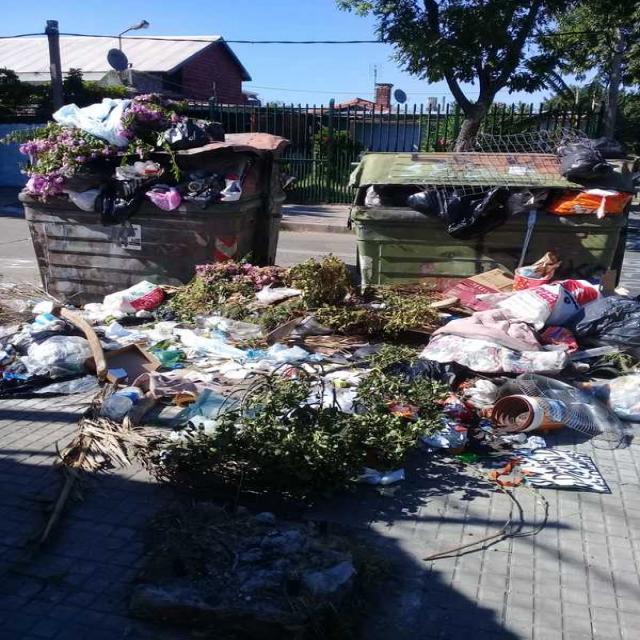garbage: (2, 259, 610, 426), (222, 268, 627, 427), (53, 394, 511, 507), (91, 520, 388, 635), (0, 100, 188, 207)
